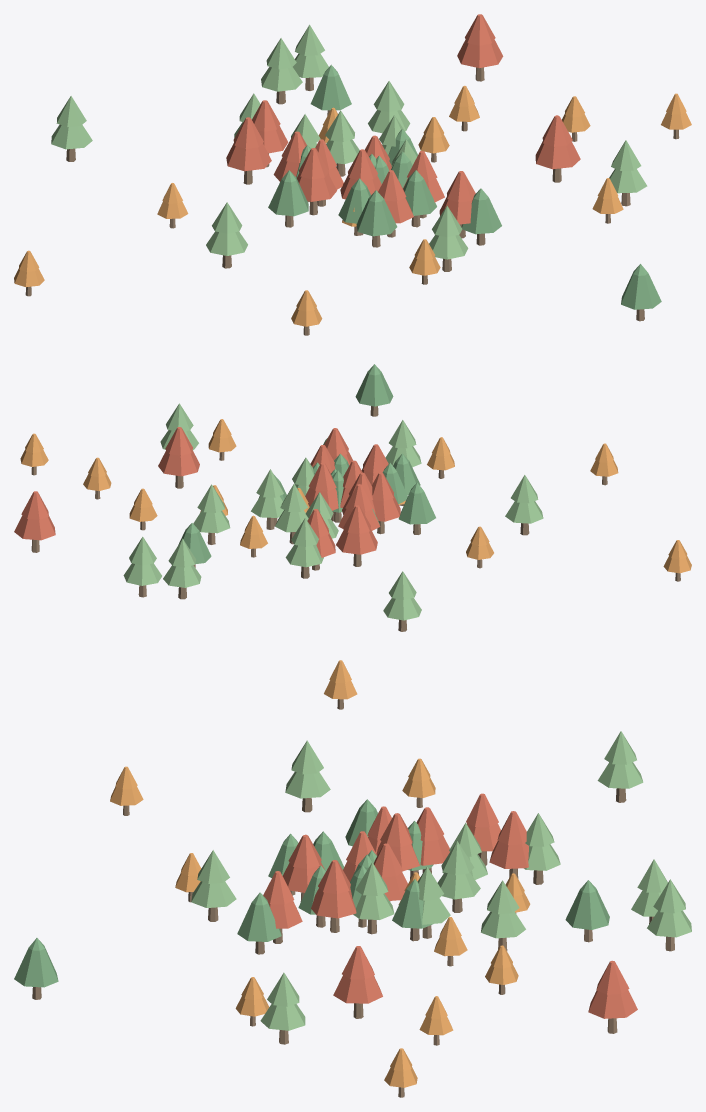
Rendered from north-woods.glb.
3 views of the same model, one above another, from view 1: azimuth 30°, elevation 25°; view 2: azimuth 150°, elevation 25°; view 3: azimuth 270°, elevation 25° (orthographic). The views are drawn at different scales.
Parts seen in each view (by area): view 1: blob.048, blob.046, blob.056, blob.054, blob.050, autumn_crown1.007, autumn_crown1.017, autumn_crown1.015, blob.051, pine1.017, pine1.025, pine1.015 (+26 smaller); view 2: blob.056, blob.046, autumn_crown1.015, autumn_crown1.017, autumn_crown1.007, pine1.018, pine1.015, pine1.025, pine1.017, pine1.021, pine1.026, blob.054 (+23 smaller); view 3: blob.054, blob.056, blob.050, autumn_crown1.007, autumn_crown1.015, autumn_crown1.019, blob.049, pine1.022, pine1.018, pine1.017, pine1.023, pine1.026 (+20 smaller).
Part boxes in pixels (bbox=[...]): blob.048: bbox=[356, 198, 397, 236]; blob.046: bbox=[268, 178, 308, 216]; blob.056: bbox=[621, 272, 661, 309]; blob.054: bbox=[310, 74, 351, 110]; blob.050: bbox=[461, 197, 501, 234]; autumn_crown1.007: bbox=[457, 39, 503, 68]; autumn_crown1.017: bbox=[226, 143, 271, 171]; autumn_crown1.015: bbox=[535, 141, 580, 169]; blob.051: bbox=[403, 178, 436, 215]; pine1.017: bbox=[206, 231, 247, 255]; pine1.025: bbox=[261, 67, 302, 91]; pine1.015: bbox=[51, 124, 92, 149]; blob.056: bbox=[355, 372, 393, 406]; blob.046: bbox=[398, 491, 435, 524]; autumn_crown1.015: bbox=[158, 450, 199, 476]; autumn_crown1.017: bbox=[336, 529, 377, 554]; autumn_crown1.007: bbox=[14, 515, 55, 540]; pine1.018: bbox=[123, 563, 161, 585]; pine1.015: bbox=[383, 598, 421, 620]; pine1.025: bbox=[163, 565, 201, 587]; pine1.017: bbox=[505, 501, 543, 523]; pine1.021: bbox=[285, 544, 323, 567]; pine1.026: bbox=[193, 510, 230, 533]; blob.054: bbox=[178, 530, 211, 564]; blob.054: bbox=[565, 889, 609, 929]; blob.056: bbox=[14, 946, 58, 987]; blob.050: bbox=[237, 902, 281, 941]; autumn_crown1.007: bbox=[588, 990, 637, 1018]; autumn_crown1.015: bbox=[333, 975, 382, 1003]; autumn_crown1.019: bbox=[311, 888, 356, 918]; blob.049: bbox=[392, 889, 432, 928]; pine1.022: bbox=[260, 1004, 305, 1030]; pine1.018: bbox=[647, 910, 691, 937]; pine1.017: bbox=[285, 772, 330, 798]; pine1.023: bbox=[191, 881, 236, 907]; pine1.026: bbox=[481, 911, 525, 938].
Bounding box in the file's own units: 83.63 × 11.38 × 64.39.
